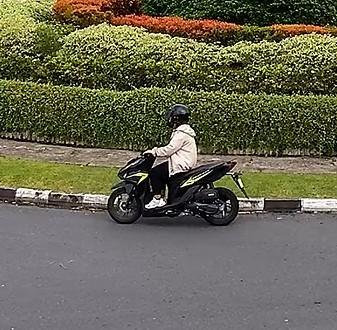Helmet: (167, 104, 189, 127)
Number Plate: (237, 178, 243, 188)
